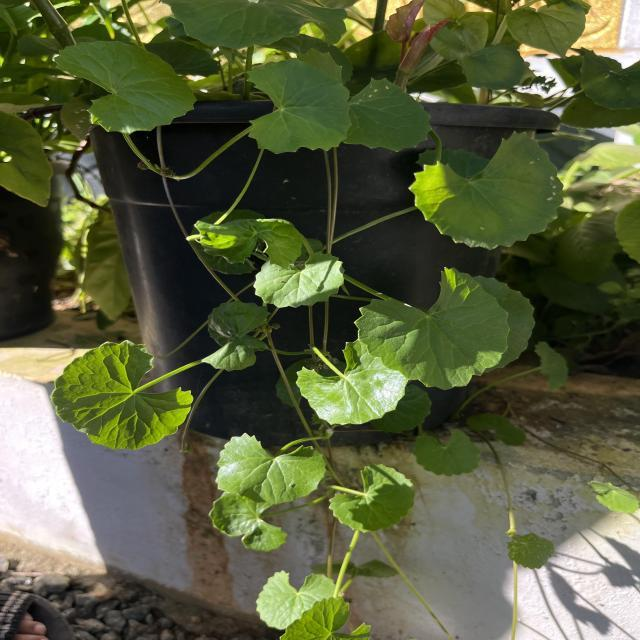Centella asiatica: (351, 264, 512, 392), (48, 336, 198, 452), (50, 38, 200, 136), (244, 54, 354, 157), (293, 335, 410, 427), (213, 431, 329, 506)
